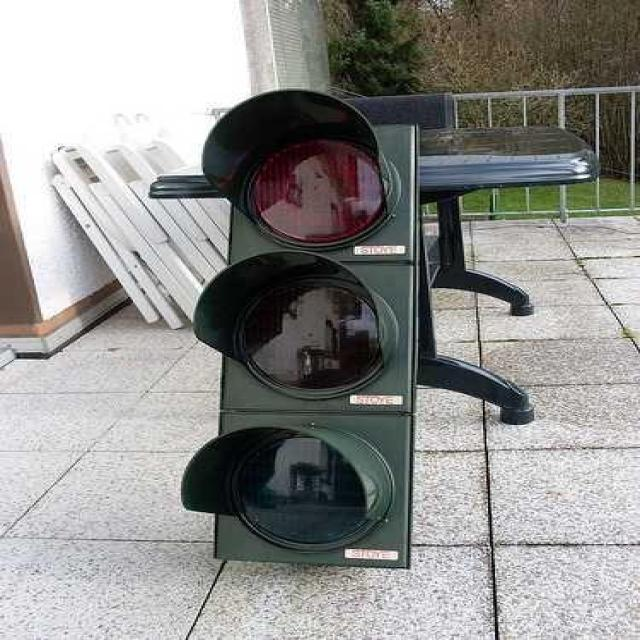Traffic Light -Off-: (174, 82, 411, 563)
